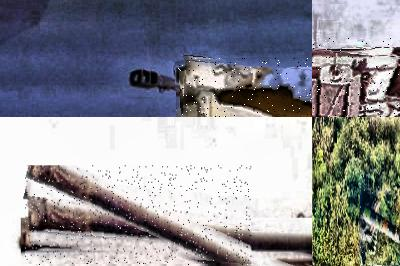tanks: (26, 167, 252, 266), (182, 59, 313, 118), (313, 50, 400, 118), (361, 187, 400, 262), (275, 258, 313, 266), (238, 261, 252, 265)
